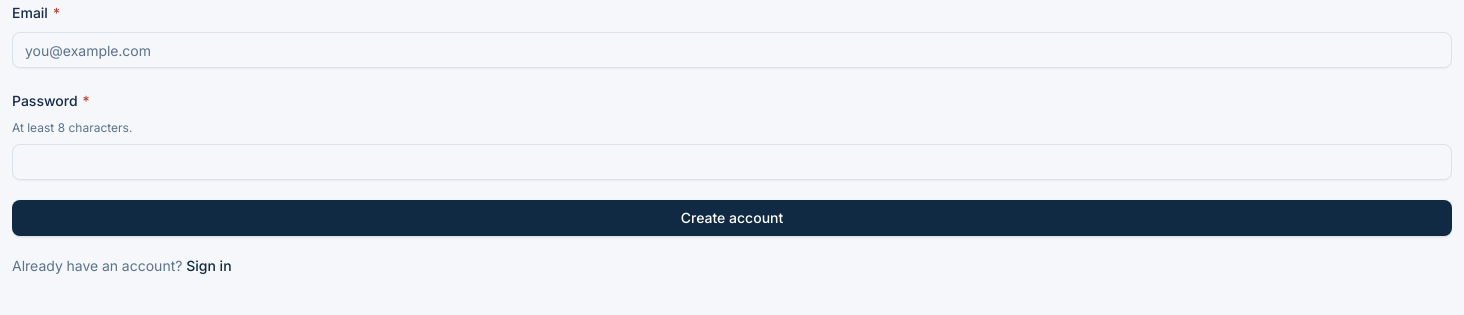
Test: auth forms › requires an eight character signup password
In the field labelled "Email*": (732, 50) [12,32,1452,68], type "new@portiq.demo"
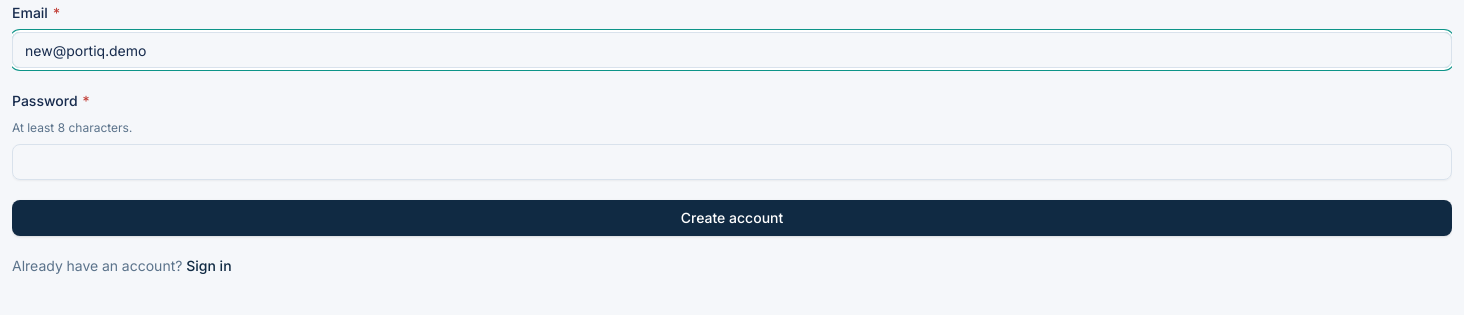
In the password field labelled "Password*": (732, 162) [12,144,1452,180], type "short"
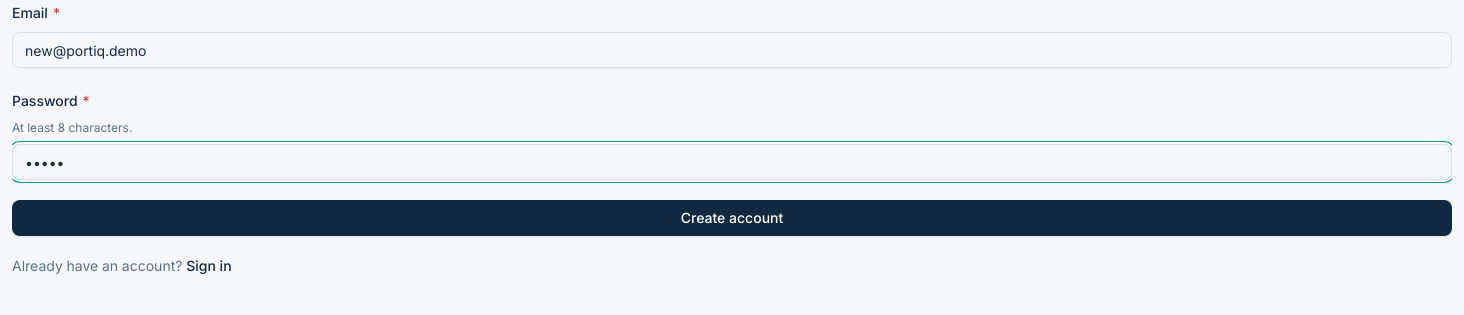
Click the button "Create account": (732, 218) [12,200,1452,236]
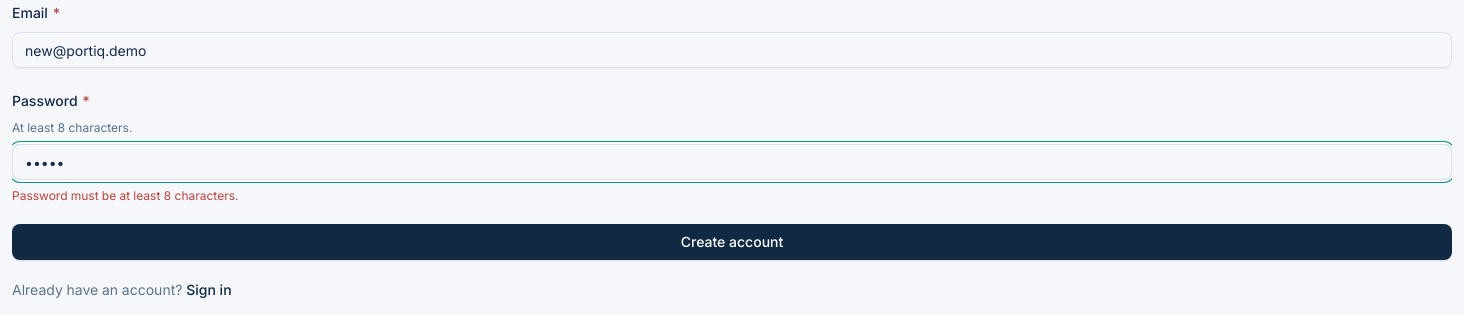
Now the text "Password must be at least 8 characters." is shown, box [12,188,238,203]
